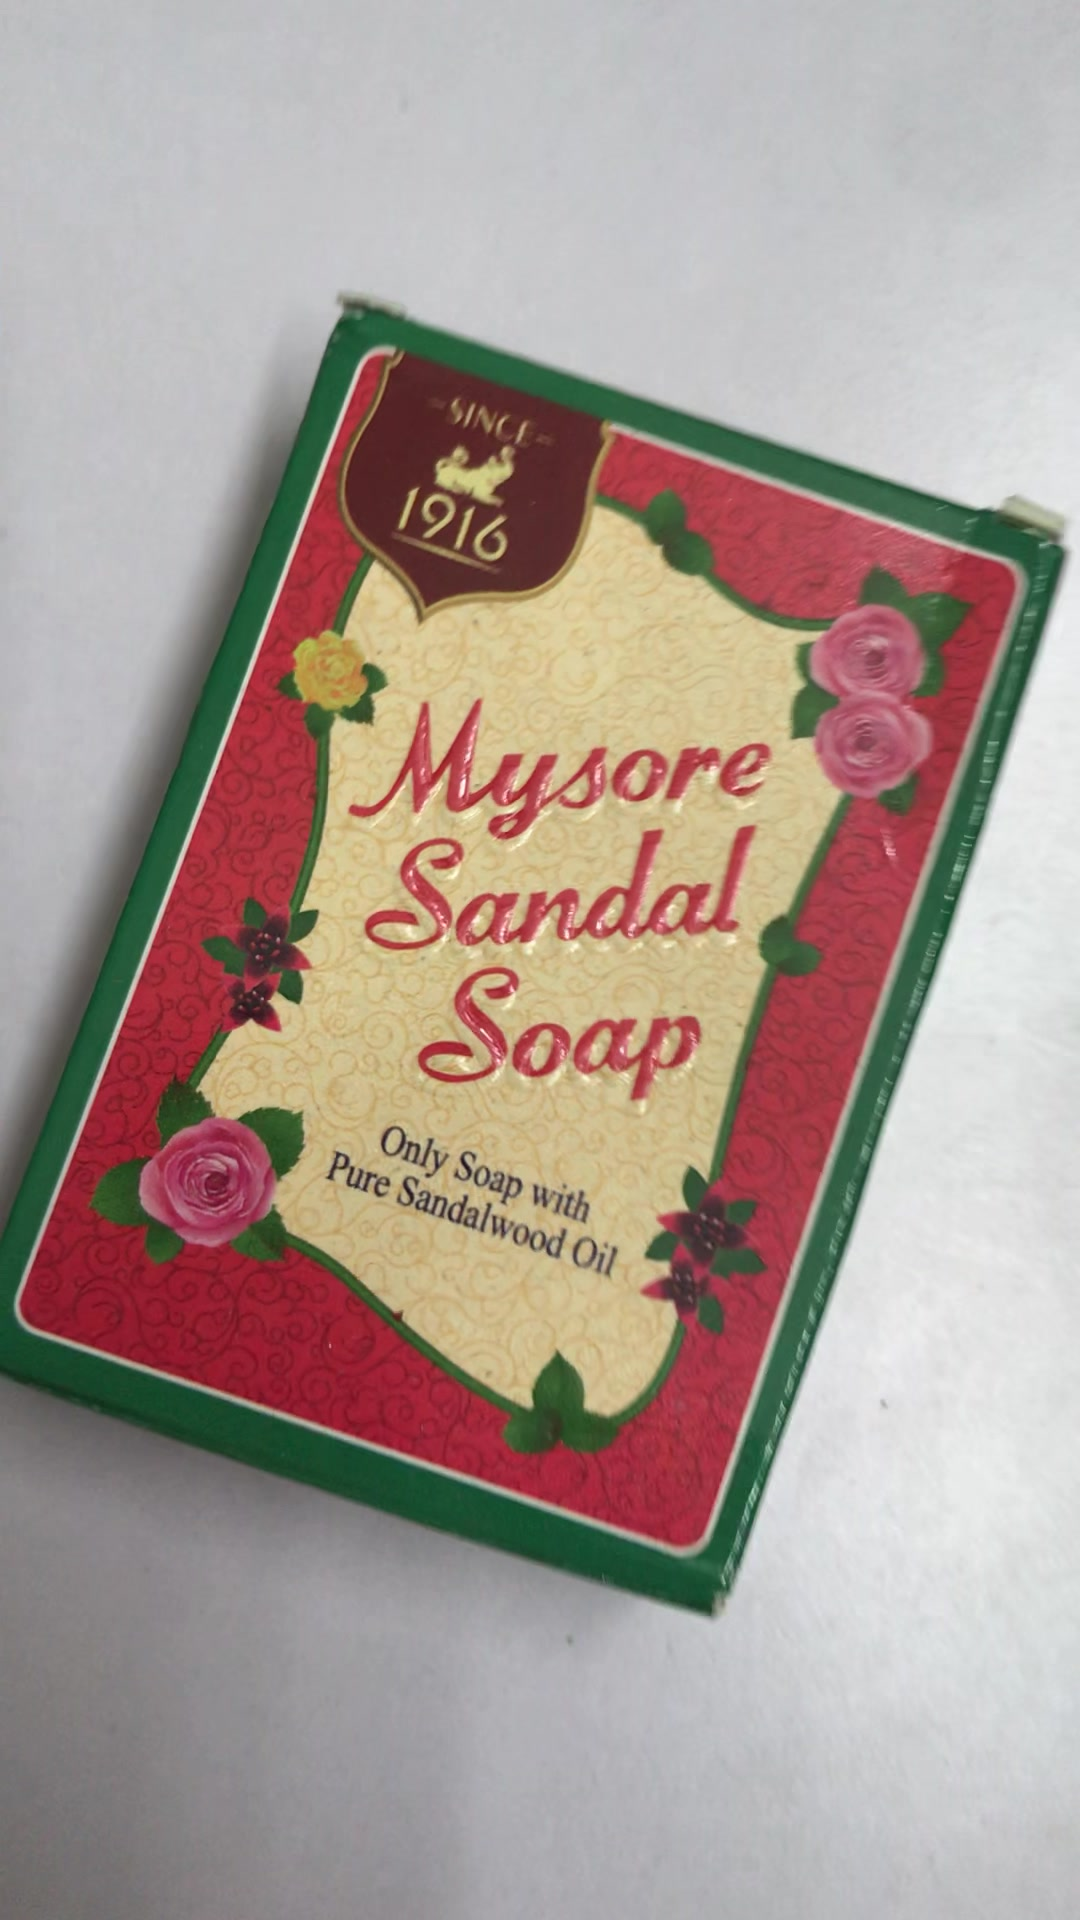mysore sandal soap: (13, 291, 1062, 1613)
